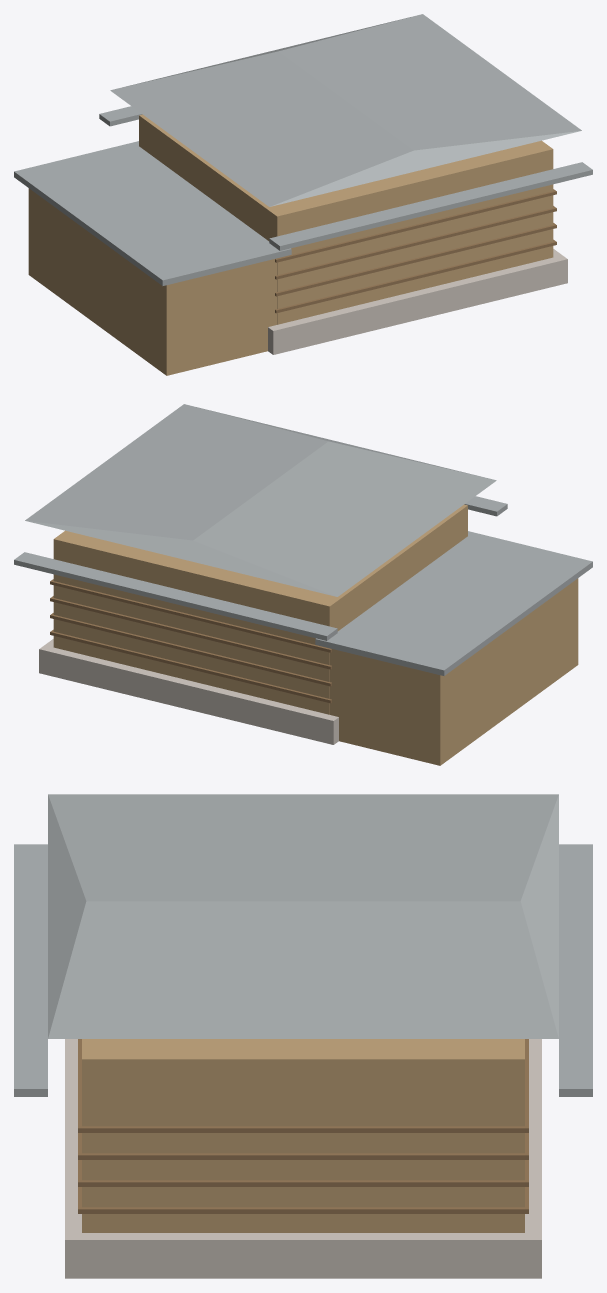
The model's file is chalet-bois.glb.
3 views of the same model, one above another, from view 1: azimuth 30°, elevation 25°; view 2: azimuth 150°, elevation 25°; view 3: azimuth 270°, elevation 25° (orthographic). The views are drawn at different scales.
Visible parts, largest first — view 1: B_Roof, B_Body, B_Veranda, B_VerandaRoof, B_Base, B_Overhang2, B_LogLine_1.5, B_LogLine_0.8, B_LogLine_1.85, B_LogLine_1.15, B_Overhang1; view 2: B_Roof, B_Body, B_Veranda, B_VerandaRoof, B_Base, B_Overhang1, B_LogLine_0.8, B_LogLine_1.5, B_LogLine_1.85, B_LogLine_1.15, B_Overhang2; view 3: B_Roof, B_Body, B_Base, B_Overhang1, B_Overhang2, B_LogLine_1.85, B_LogLine_0.8, B_LogLine_1.15, B_LogLine_1.5.
Part boxes in pixels (x1=…): B_Roof: x1=110, y1=14, x2=581, y2=206; B_Body: x1=139, y1=114, x2=553, y2=324; B_Veranda: x1=28, y1=188, x2=276, y2=375; B_VerandaRoof: x1=14, y1=141, x2=291, y2=285; B_Base: x1=268, y1=249, x2=567, y2=354; B_Overhang2: x1=269, y1=162, x2=592, y2=250; B_LogLine_1.5: x1=275, y1=206, x2=556, y2=279; B_LogLine_0.8: x1=275, y1=239, x2=556, y2=313; B_LogLine_1.85: x1=275, y1=189, x2=556, y2=262; B_LogLine_1.15: x1=275, y1=223, x2=556, y2=296; B_Overhang1: x1=99, y1=106, x2=142, y2=126; B_Roof: x1=25, y1=404, x2=496, y2=596; B_Body: x1=53, y1=504, x2=467, y2=714; B_Veranda: x1=330, y1=578, x2=578, y2=765; B_VerandaRoof: x1=315, y1=531, x2=592, y2=675; B_Base: x1=39, y1=639, x2=338, y2=744; B_Overhang1: x1=14, y1=552, x2=337, y2=640; B_LogLine_0.8: x1=50, y1=629, x2=331, y2=703; B_LogLine_1.5: x1=50, y1=596, x2=331, y2=669; B_LogLine_1.85: x1=50, y1=579, x2=331, y2=652; B_LogLine_1.15: x1=50, y1=613, x2=331, y2=686; B_Overhang2: x1=464, y1=496, x2=507, y2=516; B_Roof: x1=48, y1=794, x2=558, y2=1038; B_Body: x1=82, y1=1039, x2=524, y2=1232; B_Base: x1=65, y1=1039, x2=541, y2=1278; B_Overhang1: x1=559, y1=844, x2=592, y2=1096; B_Overhang2: x1=14, y1=844, x2=47, y2=1096; B_LogLine_1.85: x1=78, y1=1039, x2=528, y2=1132; B_LogLine_0.8: x1=78, y1=1187, x2=528, y2=1213; B_LogLine_1.15: x1=78, y1=1160, x2=528, y2=1186; B_LogLine_1.5: x1=78, y1=1133, x2=528, y2=1159.
Size of what is drawn, in the model's own units: 9 by 3.4 by 6.8.
